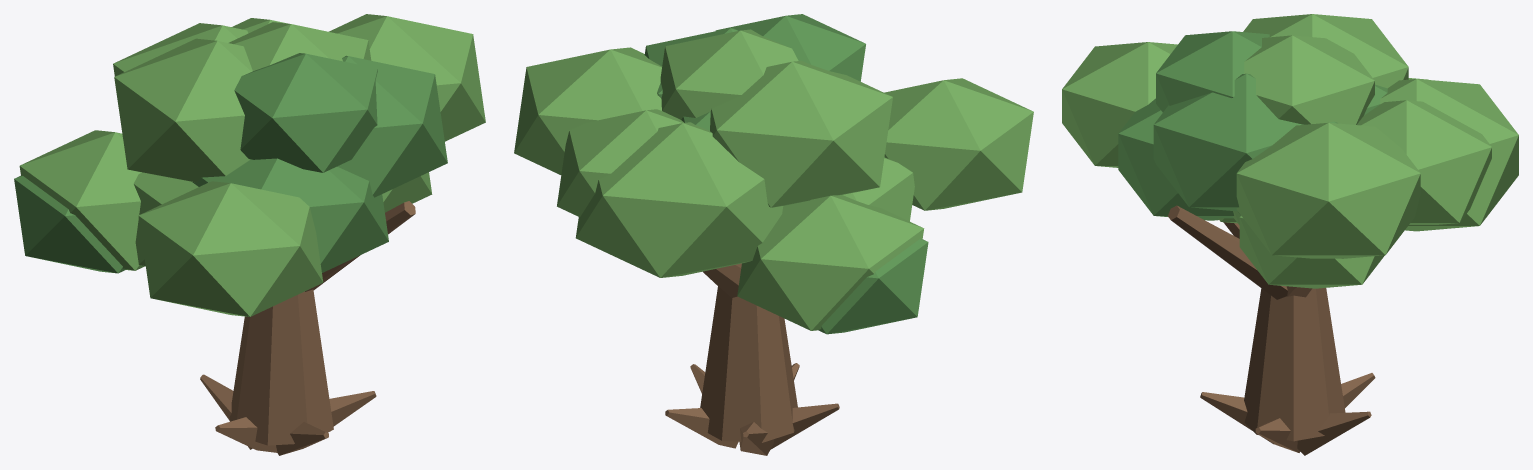
File: OldOak_Giant.glb
3 renders of one model, left to right at view 1: azimuth 30°, elevation 25°; view 2: azimuth 150°, elevation 25°; view 3: azimuth 270°, elevation 25°, orthographic. The views are drawn at different scales.
Parts seen in each view (by area): view 1: OldOak; view 2: OldOak; view 3: OldOak.
Part boxes in pixels (box(x1,y1,x2,y2)): OldOak: box(14, 14, 485, 455); OldOak: box(514, 14, 1033, 455); OldOak: box(1062, 14, 1518, 455).
Size of the model in its own units: 14.5 by 13.84 by 13.87.
